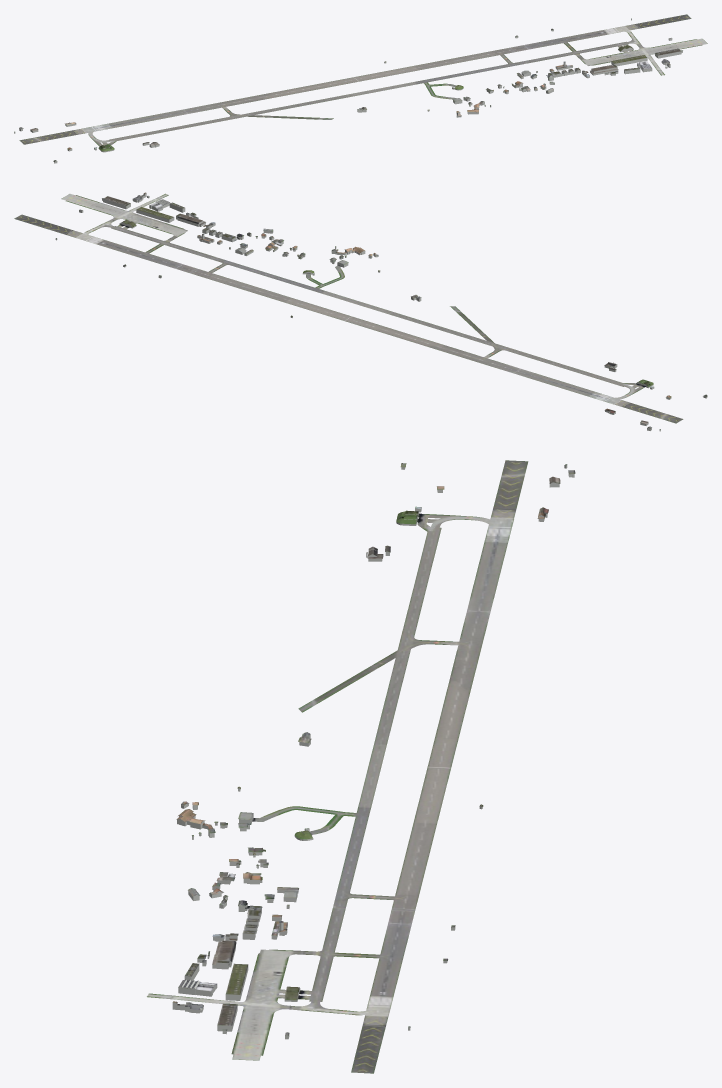
Rendered from LSMM_Airport.glb.
3 views of the same model, one above another, from view 1: azimuth 30°, elevation 25°; view 2: azimuth 150°, elevation 25°; view 3: azimuth 270°, elevation 25° (orthographic). The views are drawn at different scales.
Visible parts, largest first — view 1: pavement_LSMM_pavement_5304_2353, pavement_LSMM_pavement_5303_2353, pavement_LSMM_pavement_5300_2354, pavement_LSMM_pavement_5302_2353, pavement_LSMM_pavement_5301_2354, pavement_LSMM_pavement_5301_2353, pavement_LSMM_pavement_5302_2354; view 2: pavement_LSMM_pavement_5304_2353, pavement_LSMM_pavement_5303_2353, pavement_LSMM_pavement_5300_2354, pavement_LSMM_pavement_5302_2353, pavement_LSMM_pavement_5301_2354, pavement_LSMM_pavement_5301_2353, pavement_LSMM_pavement_5302_2354; view 3: pavement_LSMM_pavement_5304_2353, pavement_LSMM_pavement_5303_2353, pavement_LSMM_pavement_5300_2354, pavement_LSMM_pavement_5302_2353, pavement_LSMM_pavement_5301_2354, pavement_LSMM_pavement_5301_2353, pavement_LSMM_pavement_5302_2354.
Part boxes in pixels (x1,y1,x2,y2): pavement_LSMM_pavement_5304_2353: [565, 14, 707, 75]; pavement_LSMM_pavement_5303_2353: [429, 37, 600, 78]; pavement_LSMM_pavement_5300_2354: [19, 114, 160, 144]; pavement_LSMM_pavement_5302_2353: [310, 63, 456, 118]; pavement_LSMM_pavement_5301_2354: [156, 89, 297, 118]; pavement_LSMM_pavement_5301_2353: [173, 101, 332, 129]; pavement_LSMM_pavement_5302_2354: [292, 63, 428, 93]; pavement_LSMM_pavement_5304_2353: [14, 193, 175, 256]; pavement_LSMM_pavement_5303_2353: [135, 226, 293, 297]; pavement_LSMM_pavement_5300_2354: [541, 375, 682, 423]; pavement_LSMM_pavement_5302_2353: [271, 265, 451, 325]; pavement_LSMM_pavement_5301_2354: [406, 335, 546, 381]; pavement_LSMM_pavement_5301_2353: [426, 306, 563, 367]; pavement_LSMM_pavement_5302_2354: [271, 298, 411, 339]; pavement_LSMM_pavement_5304_2353: [147, 961, 402, 1073]; pavement_LSMM_pavement_5303_2353: [256, 836, 431, 961]; pavement_LSMM_pavement_5300_2354: [432, 461, 528, 586]; pavement_LSMM_pavement_5302_2353: [252, 711, 431, 836]; pavement_LSMM_pavement_5301_2354: [432, 586, 496, 711]; pavement_LSMM_pavement_5301_2353: [298, 586, 431, 711]; pavement_LSMM_pavement_5302_2354: [432, 711, 465, 836].
Size of the model in its own units: 2452 by 26.13 by 723.
3 materials, 2 textured.
